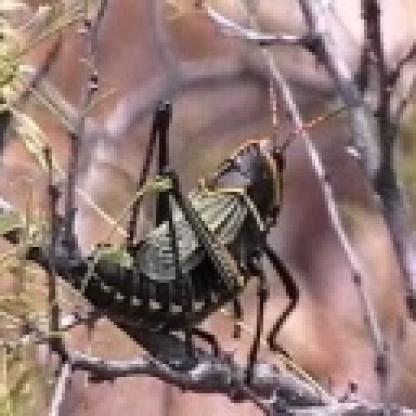grasshopper: (53, 106, 335, 376)
